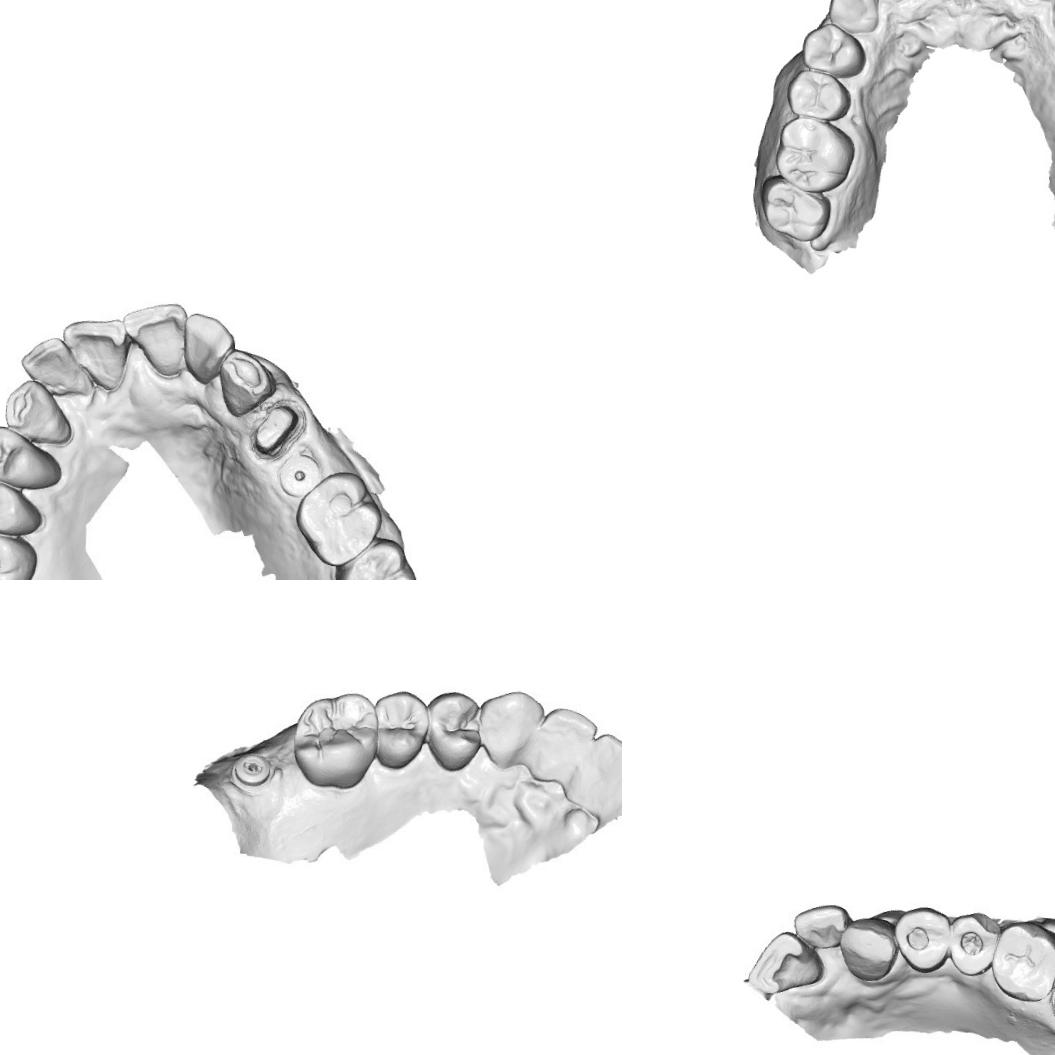canine: (474, 684, 546, 772), (0, 382, 71, 442), (839, 916, 897, 984), (216, 352, 269, 415), (824, 0, 881, 37)
crown: (255, 402, 298, 454)
implant: (278, 451, 322, 498)
implant_minus: (228, 748, 274, 792)
incisor: (744, 926, 828, 1001), (530, 704, 599, 788), (60, 318, 129, 386), (125, 300, 186, 374), (179, 312, 231, 384), (18, 337, 84, 393), (575, 729, 622, 802), (790, 902, 850, 948)
molar: (288, 686, 380, 792), (296, 475, 382, 566), (771, 114, 858, 196), (755, 173, 834, 244), (991, 918, 1055, 1001), (339, 536, 417, 580), (0, 525, 38, 580)
premolar: (421, 688, 482, 775), (370, 687, 429, 771), (799, 19, 869, 80), (895, 904, 954, 975), (782, 67, 854, 125), (947, 909, 999, 982), (0, 424, 59, 484), (0, 475, 37, 530)
